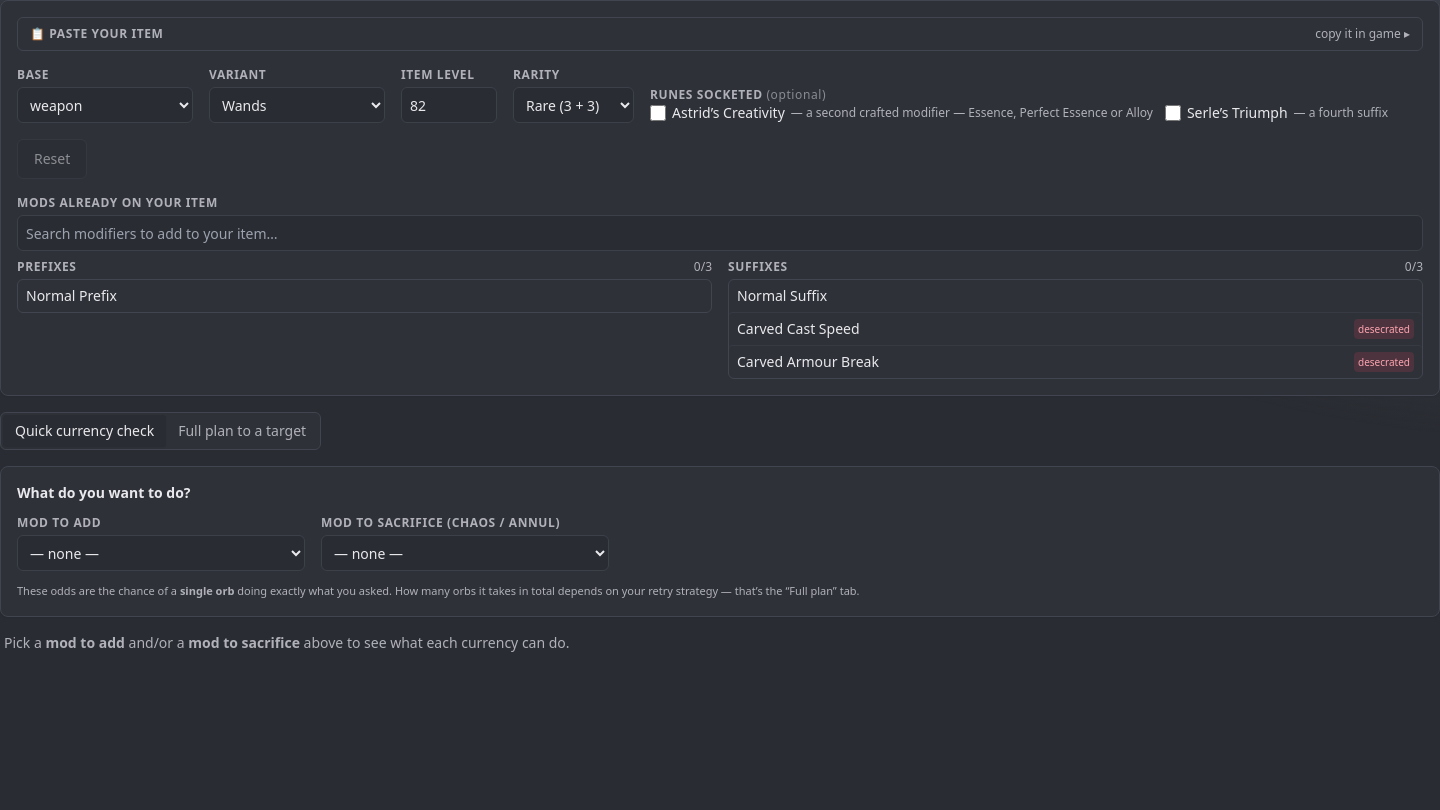
ItemActions — quick check renders every currency action › drops a sacrifice selection when the rarity trim takes that mod off the item
Expected: the field with placeholder "Search modifiers to add to your item…" is shown, [17,215,1423,251]
Click the button "Carved Cast Speed desecrated": [798, 328] box [729,312,1422,345]
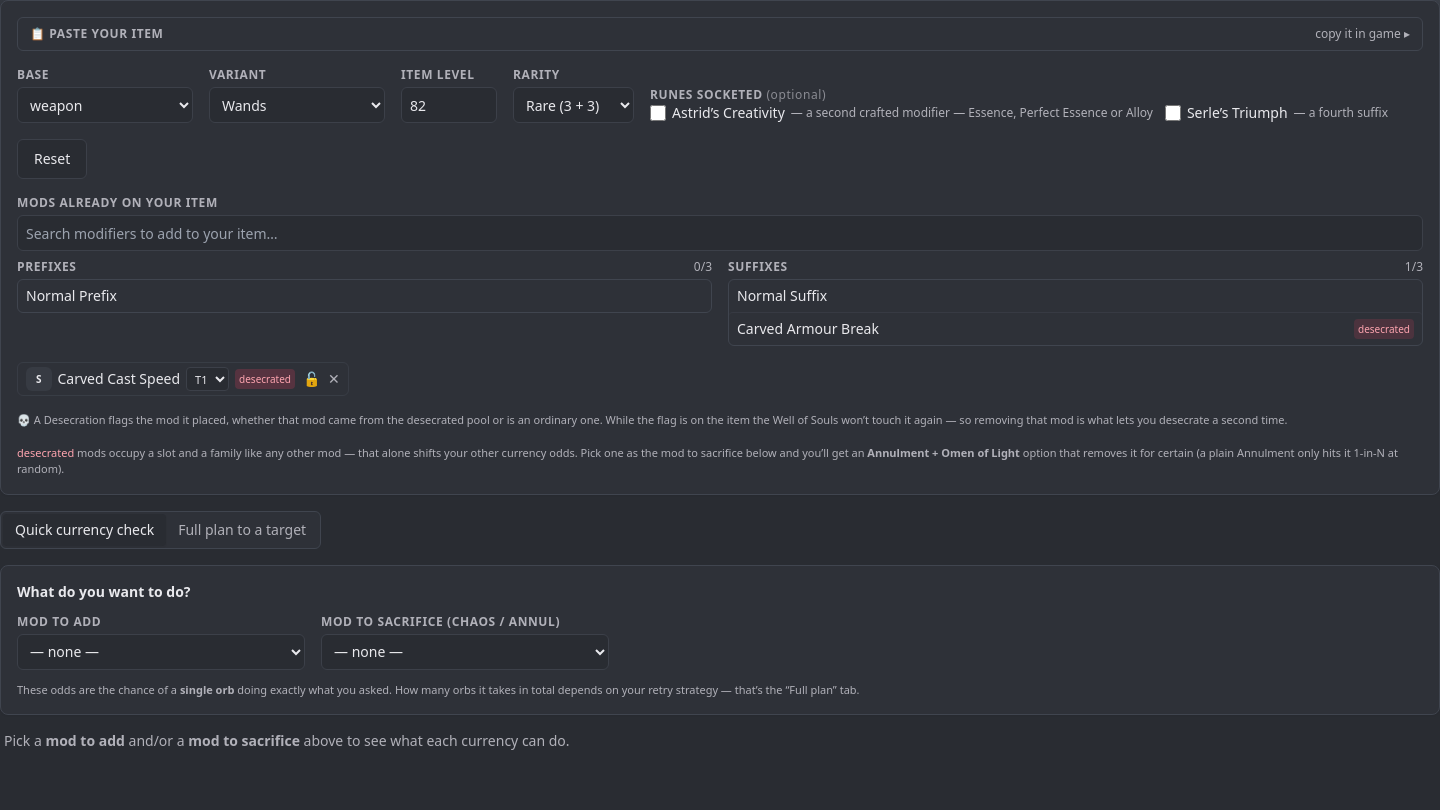
Select "S · Carved Cast Speed" in the dropdown labelled "Mod to sacrifice (Chaos / Annul)": [465, 652] box [321,634,609,670]
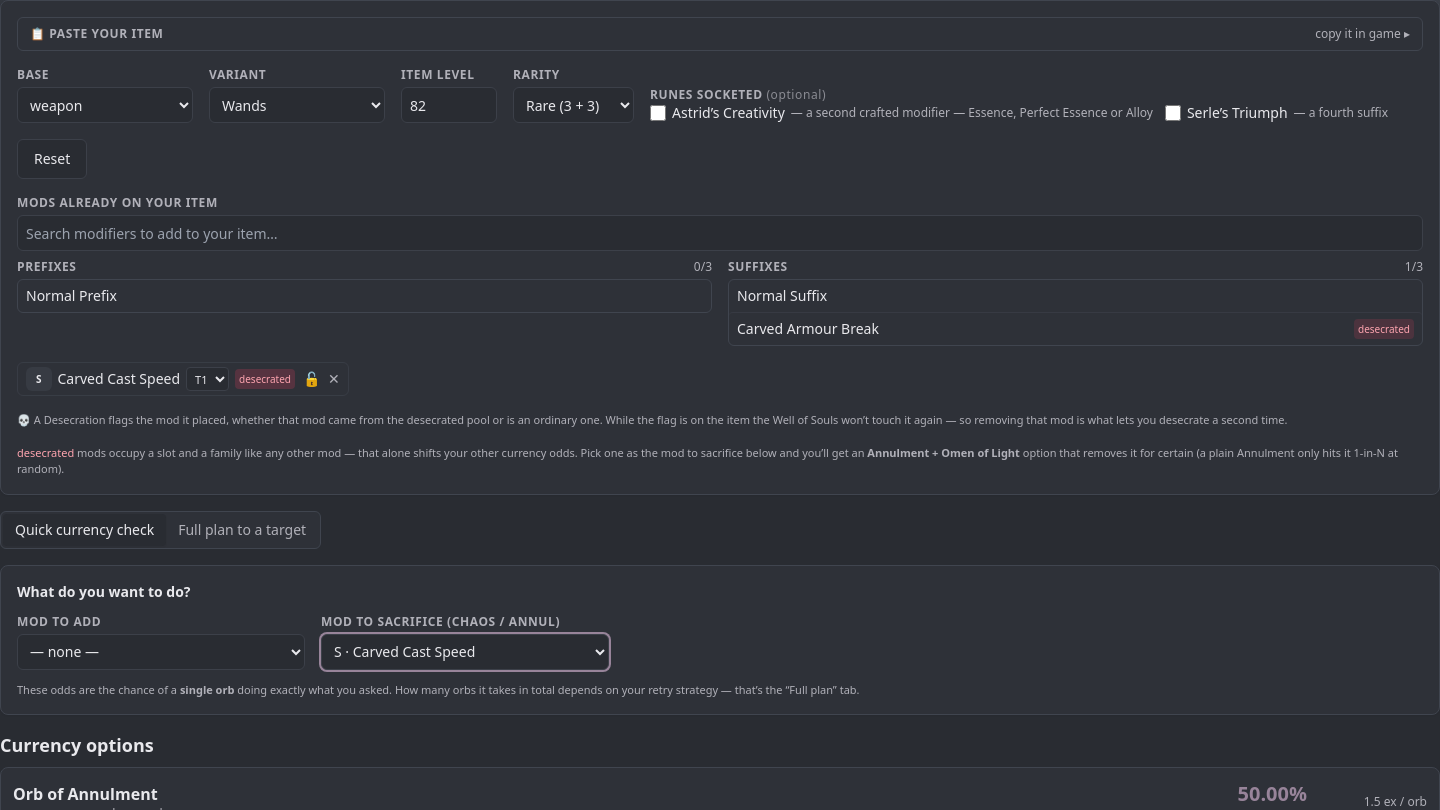
Expected: the text "Orb of Annulment" is shown, [13,782,173,806]
Click the button "Carved Armour Break desecrated": [808, 328] box [729,312,1422,345]
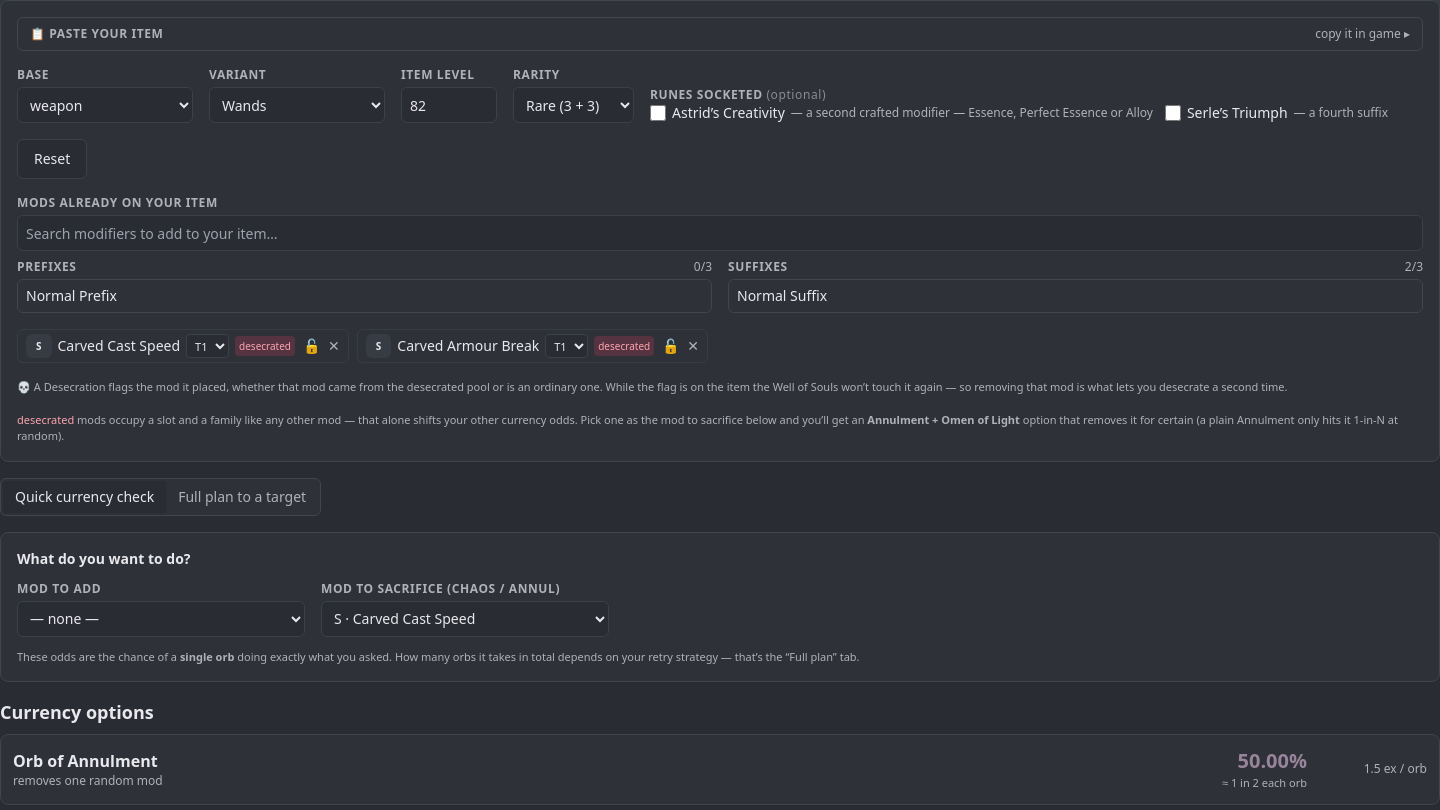
Select "S · Carved Armour Break" in the dropdown labelled "Mod to sacrifice (Chaos / Annul)": [465, 618] box [321,600,609,636]
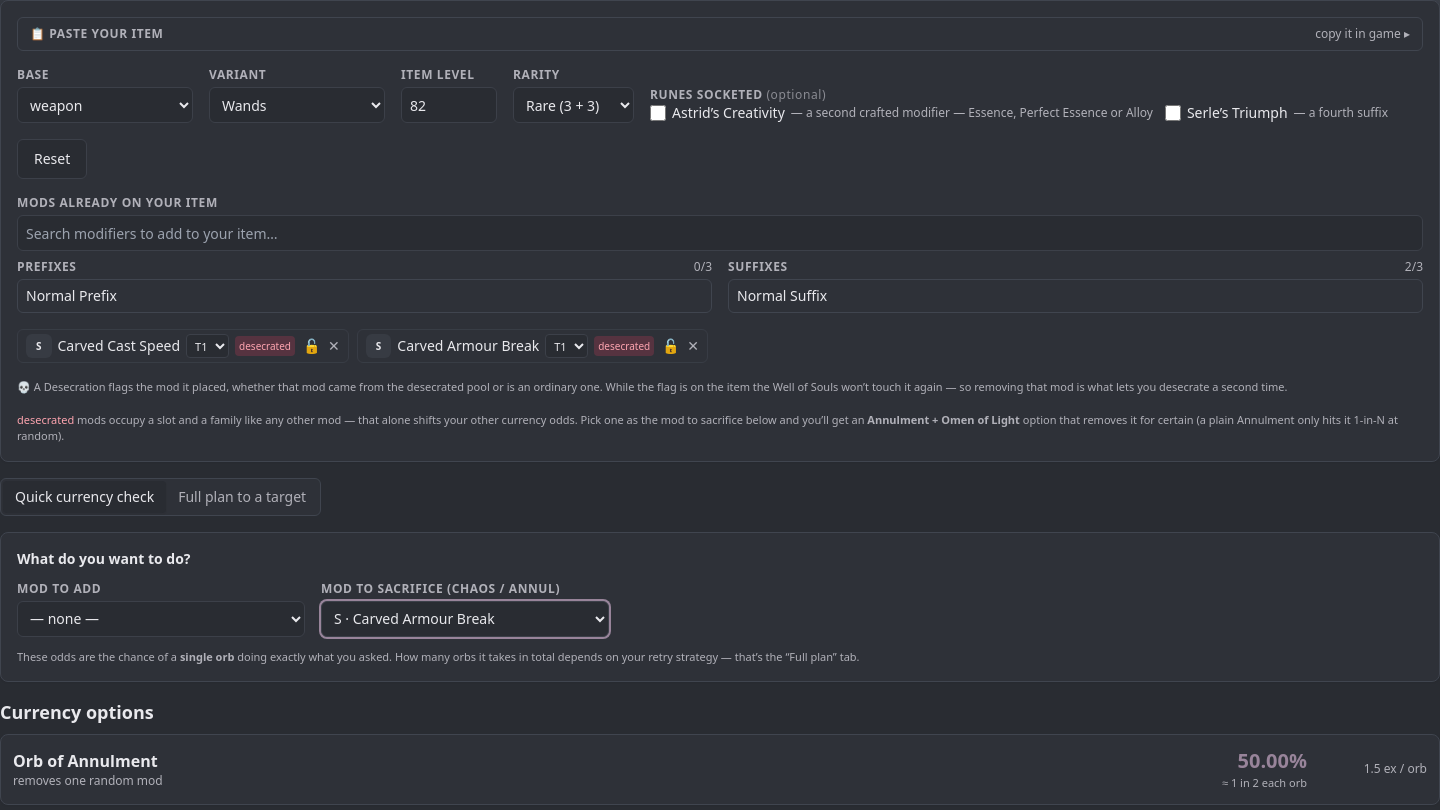
Select "Magic (1 + 1)" in the dropdown labelled "Rarity": [574, 105] box [513,87,634,123]
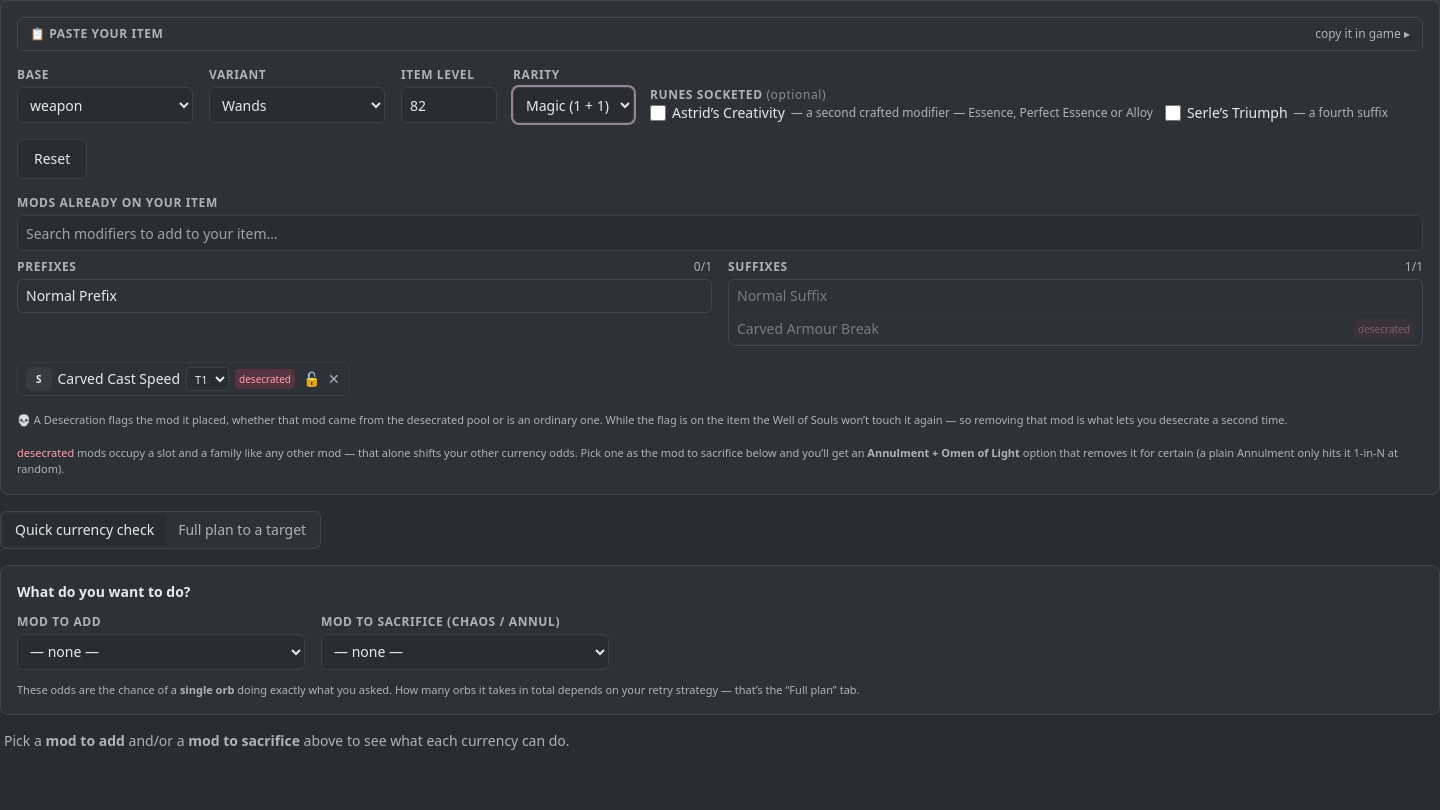
Expected: the text "Orb of Annulment" is gone
Expected: the text "Pick a" is shown, [4,731,45,750]
